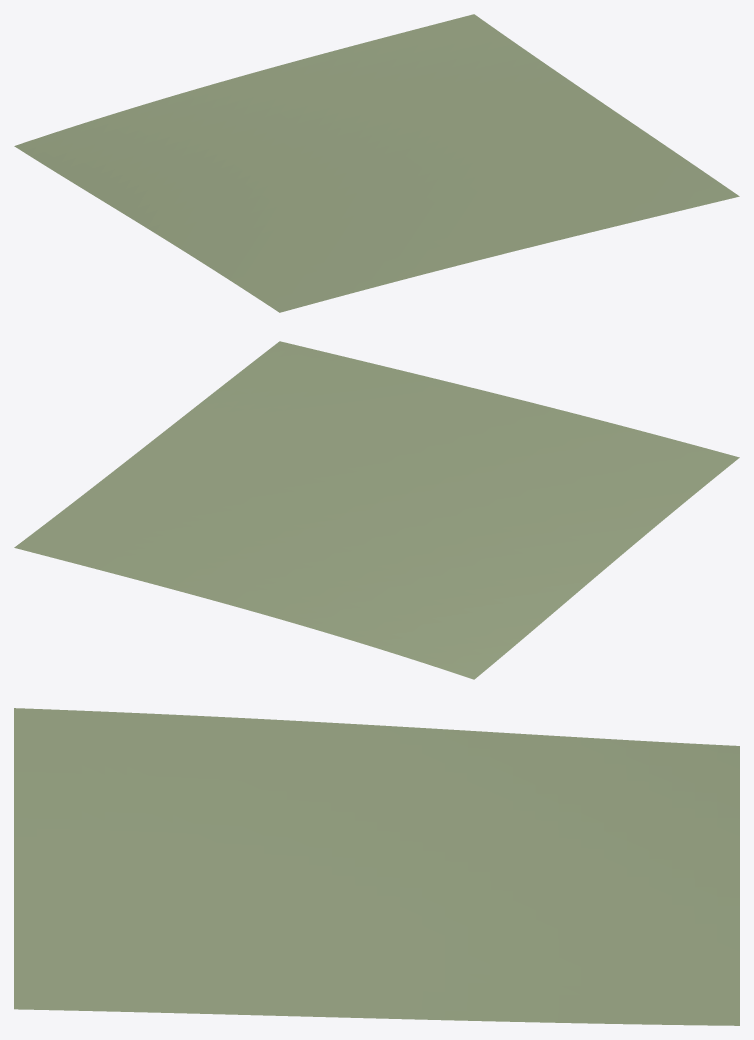
The model's file is expanse-28-11.glb.
3 renders of one model, top to bottom at view 1: azimuth 30°, elevation 25°; view 2: azimuth 150°, elevation 25°; view 3: azimuth 270°, elevation 25°, orthographic. The views are drawn at different scales.
Visible parts, largest first — view 1: expanse-28-11; view 2: expanse-28-11; view 3: expanse-28-11.
Part boxes in pixels (x1,y1,x2,y2): expanse-28-11: [14, 14, 739, 312]; expanse-28-11: [14, 341, 739, 679]; expanse-28-11: [14, 708, 739, 1025].
Size of the model in its own units: 256 by 17.14 by 256.
